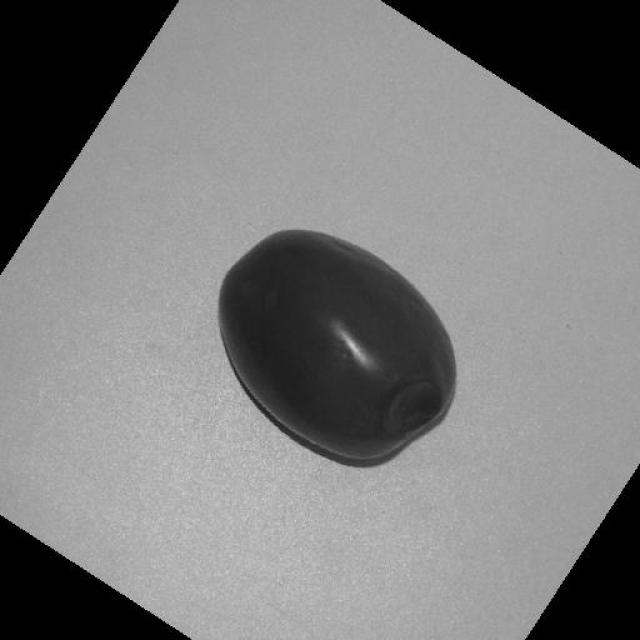Stale_tomato: (309, 335, 448, 443)
